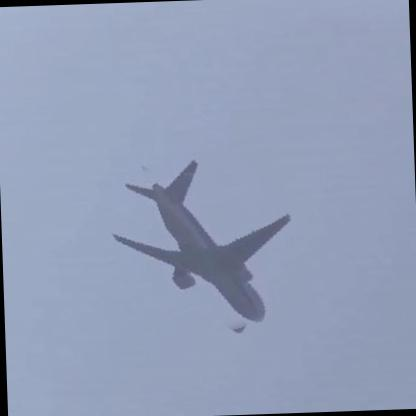plane: (102, 140, 308, 347)
